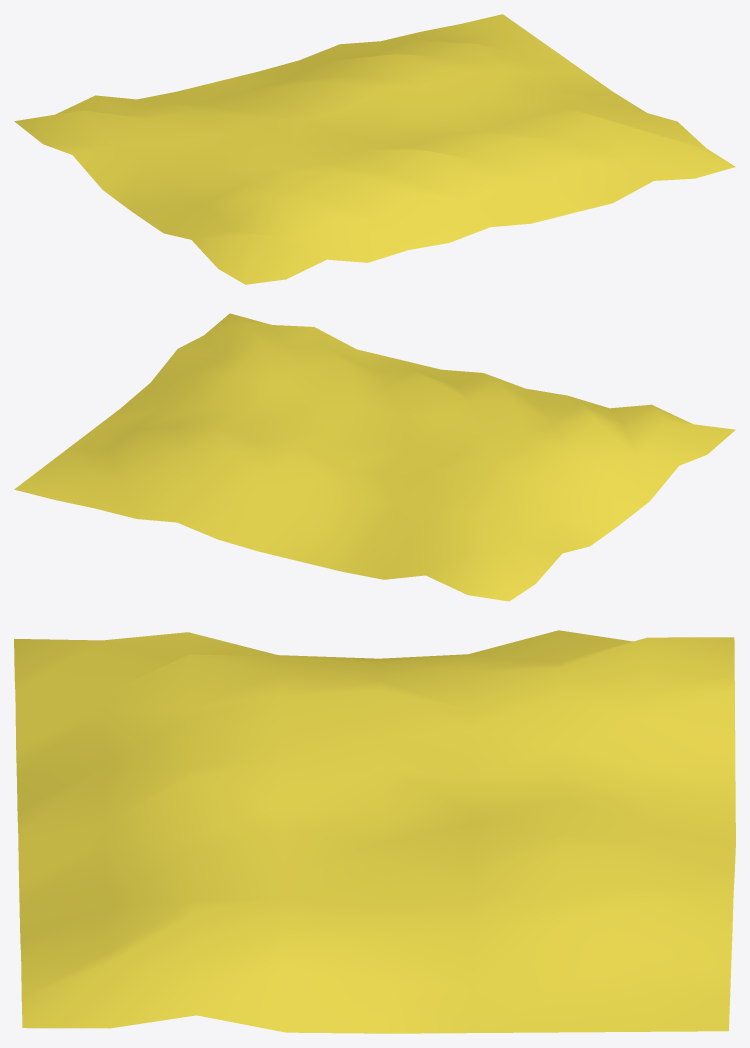
Rendered from MSH_stat_pathpart_b.obj.
3 views of the same model, one above another, from view 1: azimuth 30°, elevation 25°; view 2: azimuth 150°, elevation 25°; view 3: azimuth 270°, elevation 25° (orthographic). The views are drawn at different scales.
Visible parts, largest first — view 1: MSH_stat_pathpart_b env_base_s7 env_base; view 2: MSH_stat_pathpart_b env_base_s7 env_base; view 3: MSH_stat_pathpart_b env_base_s7 env_base.
Boxes of the visible parts, left/top/right/bottom form: MSH_stat_pathpart_b env_base_s7 env_base: left=14, top=14, right=735, bottom=284; MSH_stat_pathpart_b env_base_s7 env_base: left=14, top=313, right=735, bottom=601; MSH_stat_pathpart_b env_base_s7 env_base: left=14, top=630, right=735, bottom=1033.
Size of the model in its own units: 14.93 by 1.25 by 11.81.
